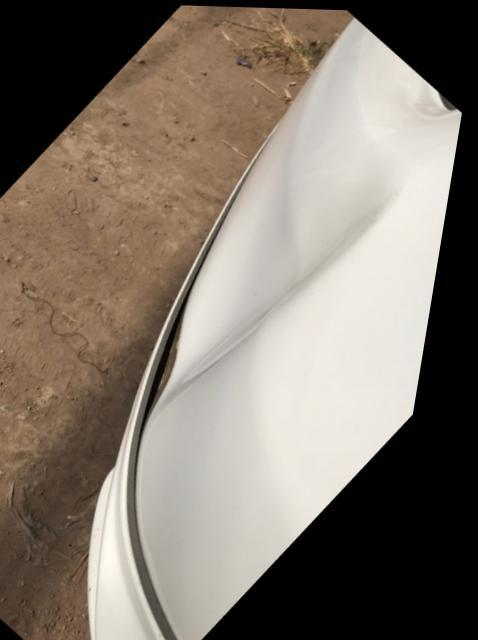dent: (174, 140, 401, 404)
